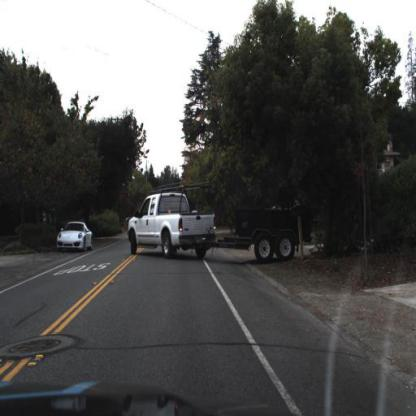car: (129, 187, 312, 267), (56, 220, 94, 256)
